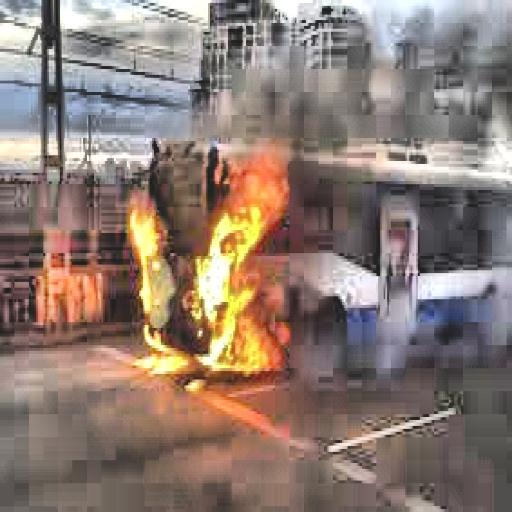fire: (120, 150, 292, 382)
